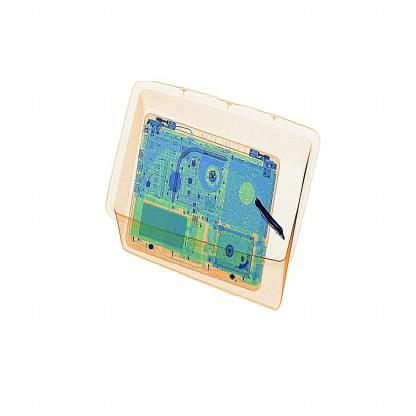knife: (248, 192, 290, 244)
